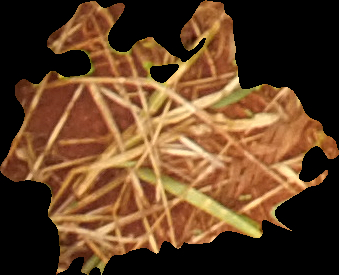soil: (3, 4, 333, 271)
